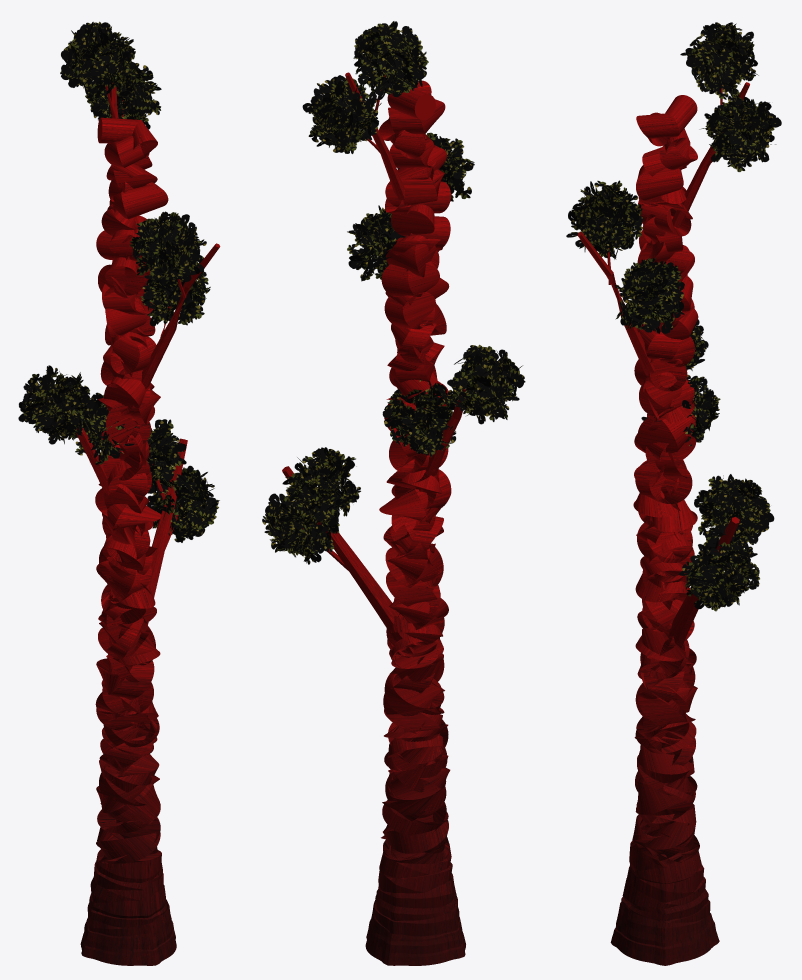
Rendered from deadwood_snag_v01.glb.
3 renders of one model, left to right at view 1: azimuth 30°, elevation 25°; view 2: azimuth 150°, elevation 25°; view 3: azimuth 270°, elevation 25°, orthographic. The views are drawn at different scales.
Parts seen in each view (by area): view 1: deadwood_snag_v01; view 2: deadwood_snag_v01; view 3: deadwood_snag_v01.
Part boxes in pixels (x1,y1,x2,y2): deadwood_snag_v01: (18, 21, 220, 965); deadwood_snag_v01: (262, 21, 525, 965); deadwood_snag_v01: (566, 22, 781, 965).
Bounding box in the file's own units: 4.06 × 15.7 × 3.49.
2 materials, 2 textured.
